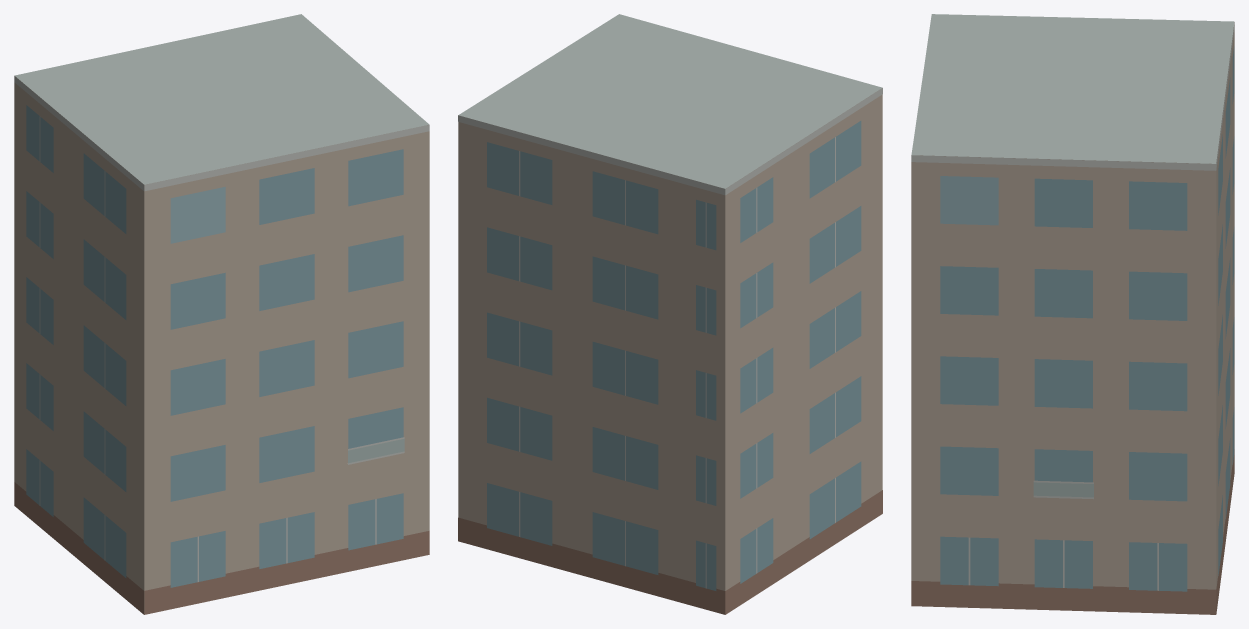
The model's file is survey-upis-32557948.glb.
3 views of the same model, side by side, from view 1: azimuth 30°, elevation 25°; view 2: azimuth 150°, elevation 25°; view 3: azimuth 270°, elevation 25° (orthographic). The views are drawn at different scales.
Parts seen in each view (by area): view 1: survey-upis-32557948.tmp; view 2: survey-upis-32557948.tmp; view 3: survey-upis-32557948.tmp.
Boxes of the visible parts, left/top/right/bottom form: survey-upis-32557948.tmp: left=14, top=14, right=429, bottom=614; survey-upis-32557948.tmp: left=458, top=14, right=882, bottom=614; survey-upis-32557948.tmp: left=911, top=14, right=1234, bottom=614.
Bounding box in the file's own units: 11.34 × 15.9 × 10.34.
